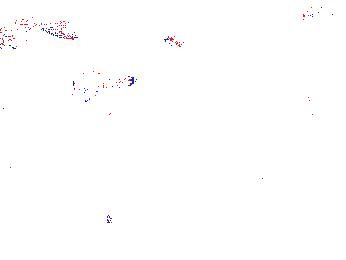glassfish: (231, 95, 334, 161)
red belly glassfish: (161, 34, 195, 50), (299, 8, 324, 25)
redtail glassfish: (1, 16, 75, 52), (69, 69, 139, 94)
siberian prawn: (52, 225, 146, 259)
